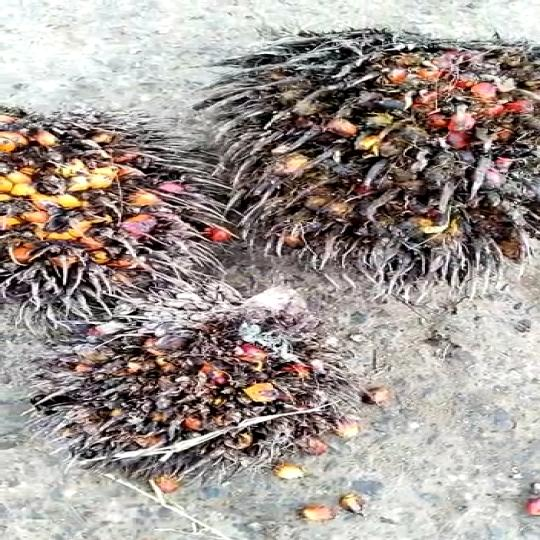terlalu masak: (203, 9, 540, 275), (58, 292, 340, 480)
